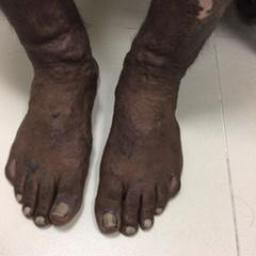Dorsal View -Both Feet-: (4, 32, 209, 240)
